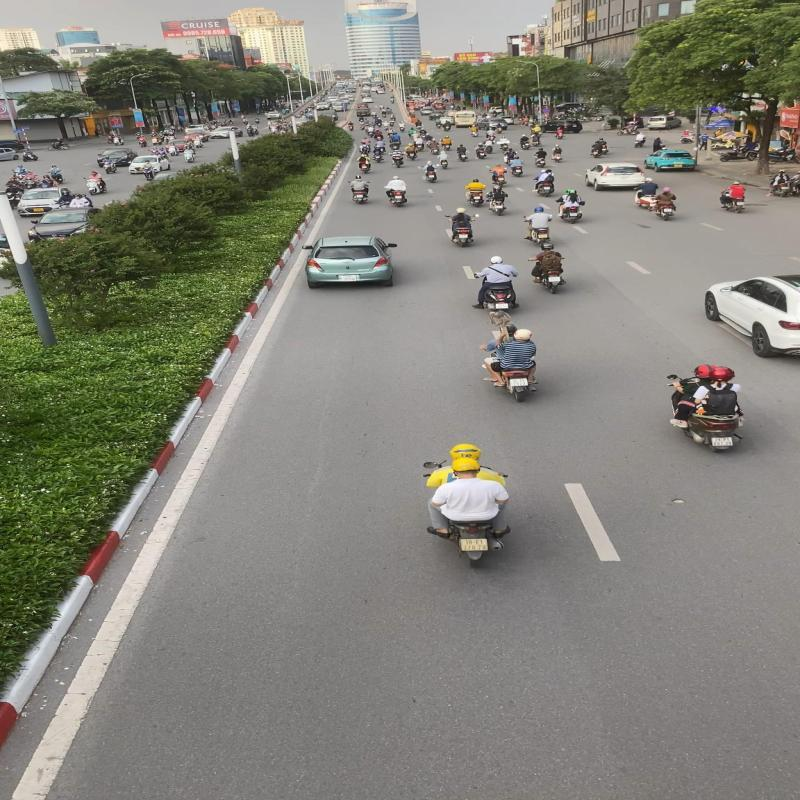helmet: (448, 442, 484, 460), (451, 456, 482, 472), (710, 366, 736, 382), (693, 364, 713, 378), (540, 242, 554, 251)
licenseplate: (458, 536, 490, 552), (709, 437, 734, 447), (547, 276, 561, 282)
motorcyclist: (422, 442, 514, 574), (666, 363, 749, 457), (526, 242, 568, 294)
